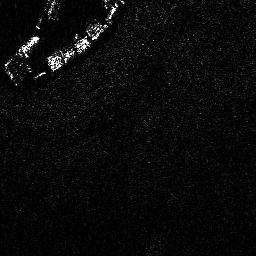ship: (18, 35, 40, 54)
